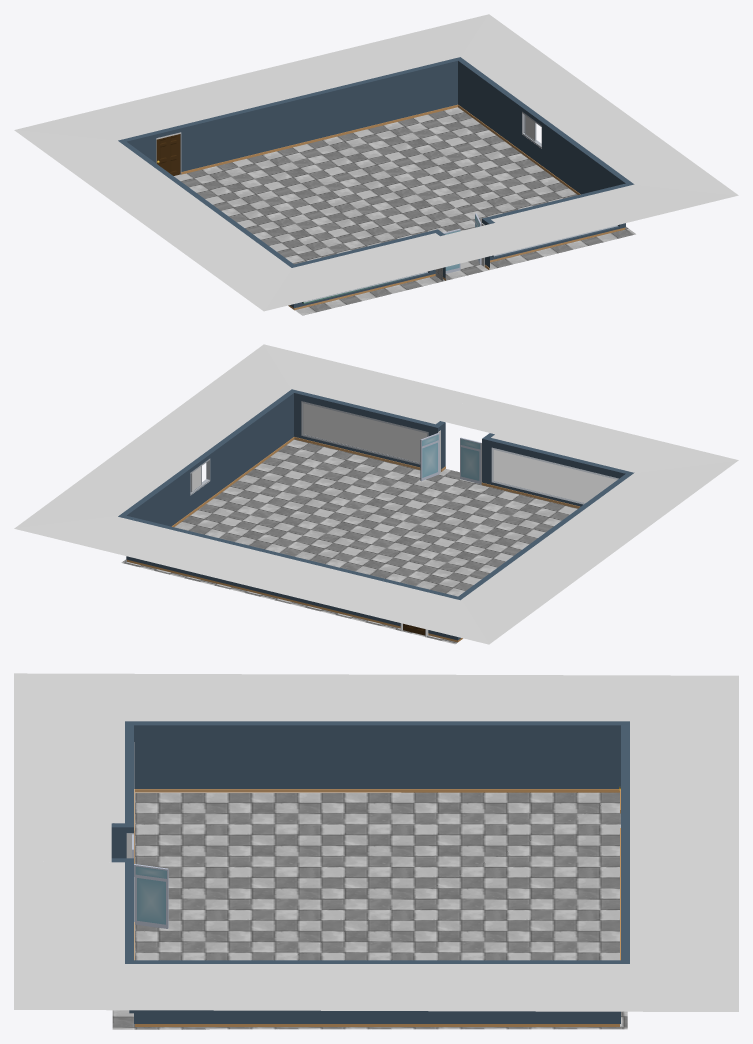
The model's file is Modisteria.FBX.
3 views of the same model, one above another, from view 1: azimuth 30°, elevation 25°; view 2: azimuth 150°, elevation 25°; view 3: azimuth 270°, elevation 25° (orthographic). The views are drawn at different scales.
Parts seen in each view (by area): view 1: Vacio, Piso, Paredes, Puertas, Ventana; view 2: Vacio, Piso, Paredes, Ventana, Puertas; view 3: Vacio, Piso, Paredes, Puertas.
Part boxes in pixels (bbox=[...]): Vacio: bbox=[14, 14, 738, 311]; Piso: bbox=[174, 107, 635, 315]; Paredes: bbox=[118, 57, 634, 310]; Puertas: bbox=[156, 134, 481, 273]; Ventana: bbox=[303, 111, 618, 302]; Vacio: bbox=[14, 344, 738, 644]; Piso: bbox=[121, 439, 577, 644]; Paredes: bbox=[118, 389, 634, 642]; Ventana: bbox=[190, 401, 618, 504]; Puertas: bbox=[403, 432, 481, 635]; Vacio: bbox=[14, 673, 738, 1011]; Piso: bbox=[112, 792, 627, 1029]; Paredes: bbox=[111, 721, 629, 1026]; Puertas: bbox=[132, 787, 620, 928].
Size of the model in its own units: 3230 by 2942 by 306.
